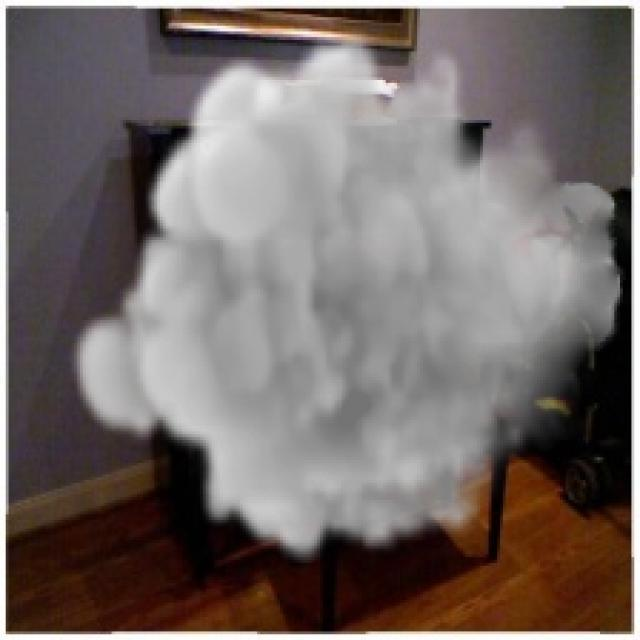Smoke: (65, 28, 626, 563)
